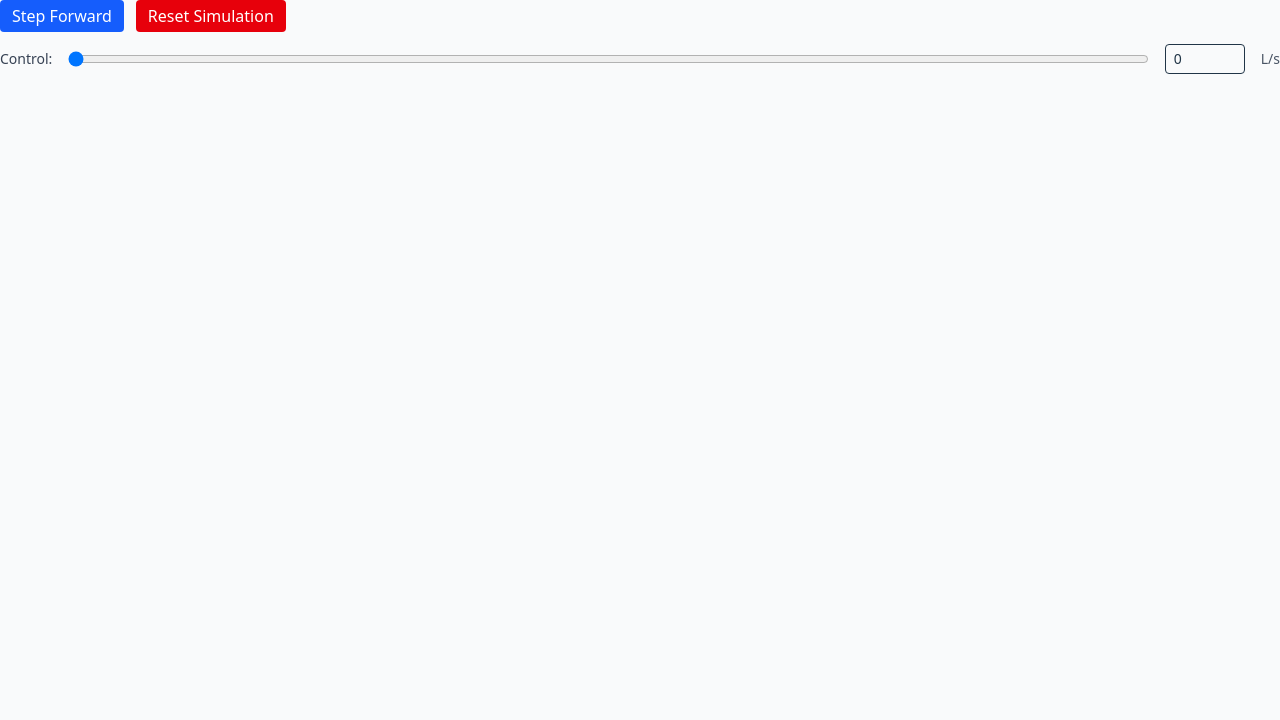
Test case: SimulationControls › Reset Functionality › shows reset button and opens confirmation dialog
Click the button "Reset Simulation": (211, 16) [136, 0, 286, 32]
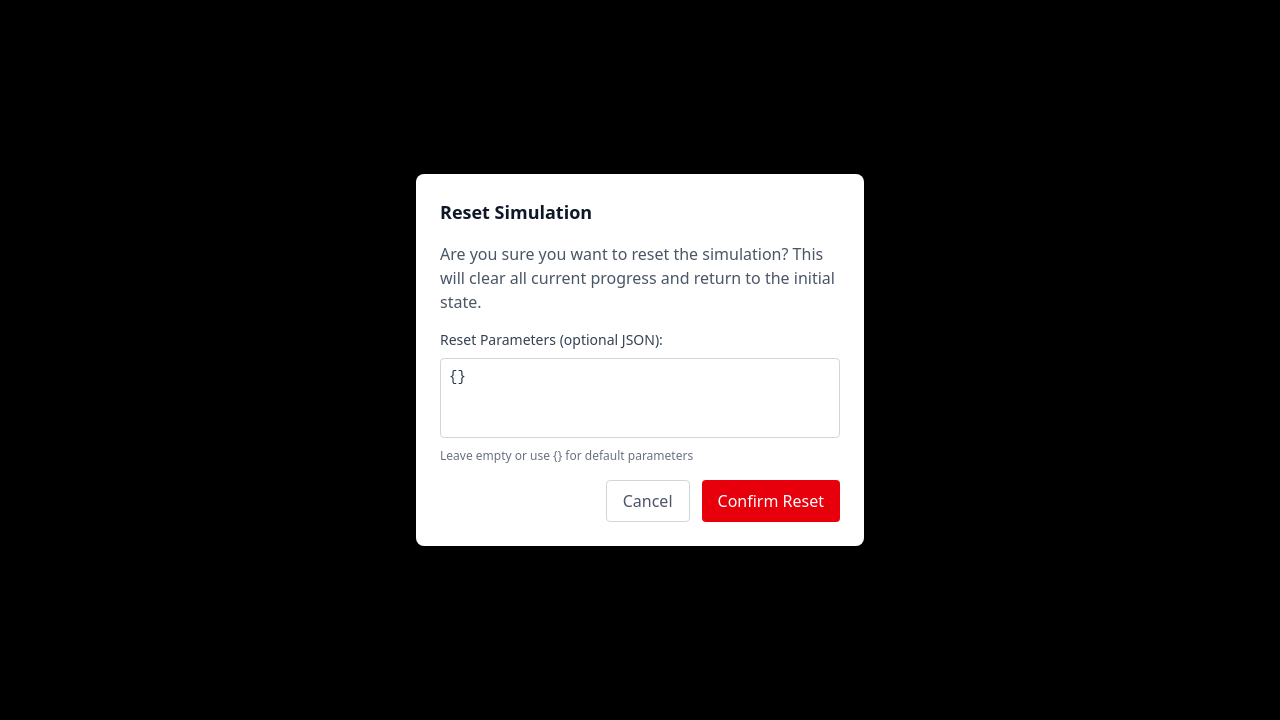
Now the text "Are you sure you want to reset" is shown, box [440, 243, 835, 313]
Now the button "Confirm Reset" is shown, box [702, 480, 840, 522]
Now the button "Cancel" is shown, box [606, 480, 690, 522]
